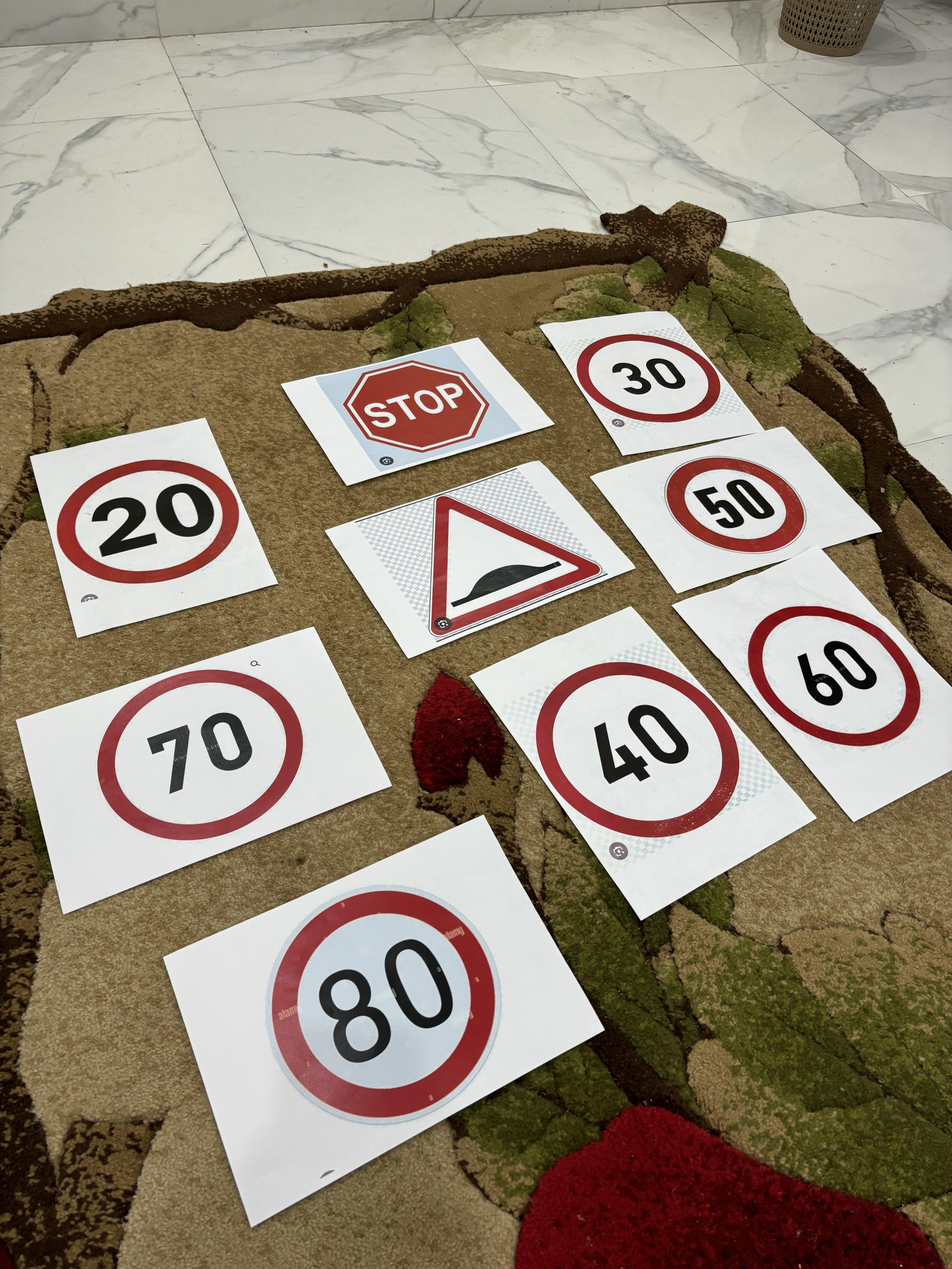20-Speed: (56, 454, 244, 582)
30-speed: (580, 318, 726, 428)
40-Speed: (534, 649, 751, 849)
50-Speed: (667, 447, 815, 552)
60-Speed: (745, 598, 930, 749)
70-Speed: (85, 665, 308, 851)
80-Speed: (265, 885, 500, 1128)
Hump: (412, 491, 605, 630)
Stop: (347, 354, 495, 460)
